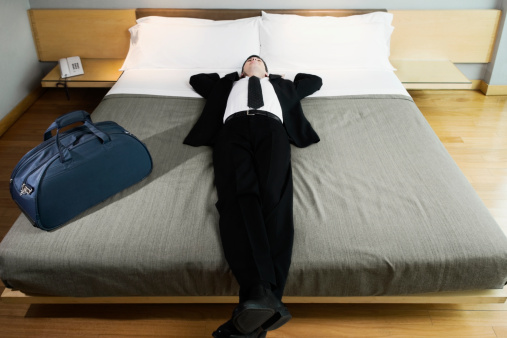deitado: (172, 35, 312, 338)
